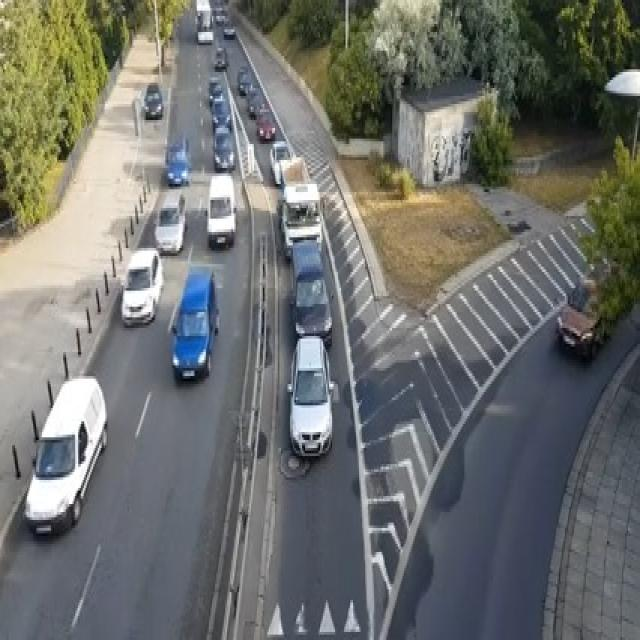car: (22, 376, 106, 536), (554, 256, 618, 360), (286, 333, 334, 459), (168, 267, 220, 381), (288, 240, 332, 344), (120, 246, 162, 326), (280, 181, 322, 259), (554, 301, 602, 360), (206, 173, 236, 248), (154, 192, 186, 253), (165, 136, 191, 184), (212, 122, 234, 170), (269, 139, 290, 184), (141, 83, 164, 117), (210, 96, 232, 131), (255, 107, 275, 141), (236, 64, 251, 93), (208, 75, 222, 106), (248, 94, 266, 118), (213, 46, 227, 70)
truck: (194, 0, 213, 43)
